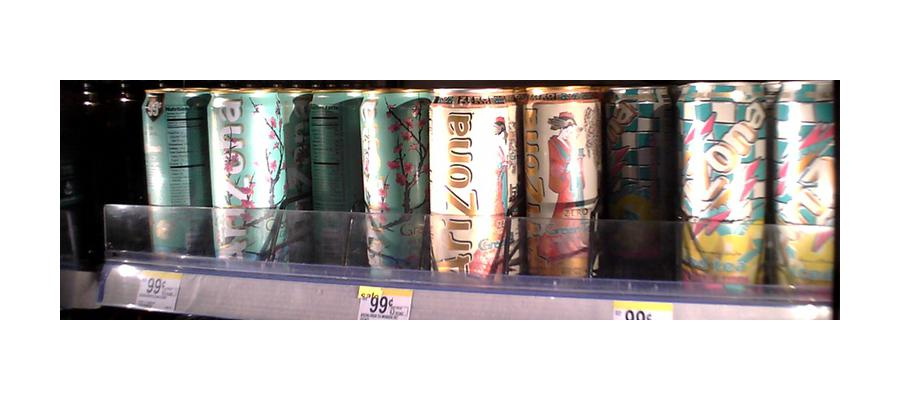bottle: (679, 75, 767, 288), (428, 90, 519, 285), (205, 89, 293, 268), (521, 87, 600, 283), (772, 76, 837, 298), (360, 90, 428, 275), (141, 91, 207, 260), (609, 88, 667, 263), (308, 84, 360, 265)
